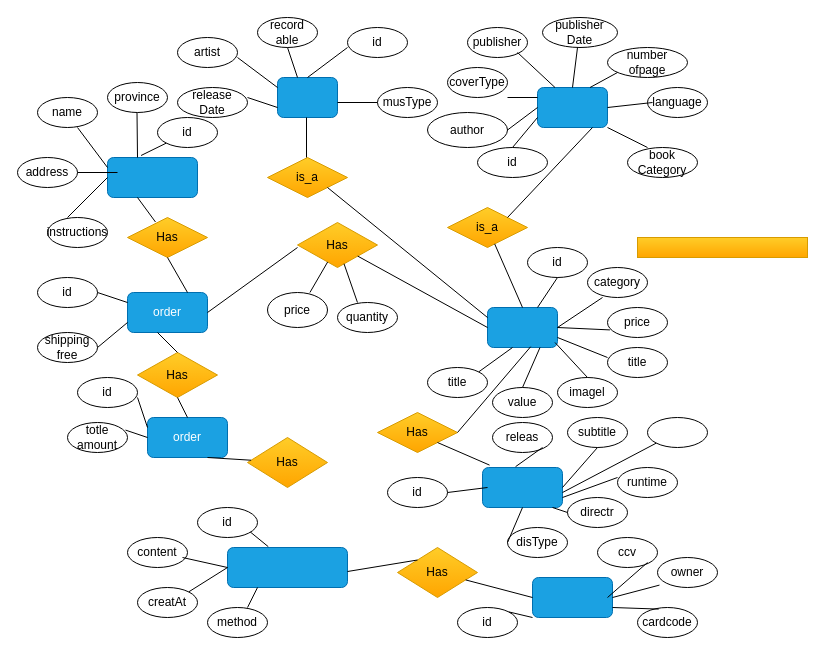
Some shapes in this 825 by 655 pixel diagram are drawn without their labels. Here are the shapes that lost their labels. From the top down, the centre of each, then its label:
At [307,97]: "CD".
At [572,107]: "Book".
At [152,177]: "Deleveryinfo".
At [722,247]: "SUN KHEMRATH 20180277".
At [522,327]: "Media".
At [677,432]: "studio".
At [522,487]: "DvD".
At [287,567]: "payment transition".
At [572,597]: "card".
